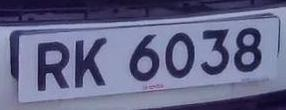0: (161, 26, 200, 86)
3: (197, 24, 234, 81)
6: (124, 27, 166, 89)
8: (230, 21, 266, 80)
K: (71, 32, 112, 93)
